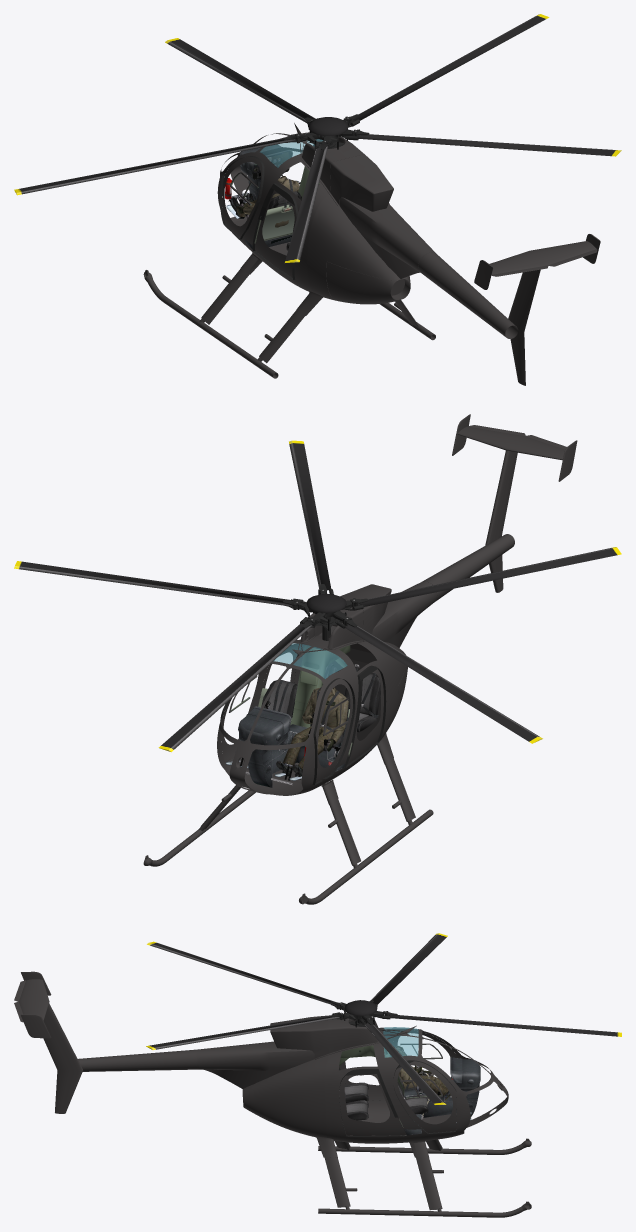
The model's file is md5_int.glb.
The picture shows the model from 3 angles, top to bottom: view 1: azimuth 30°, elevation 25°; view 2: azimuth 150°, elevation 25°; view 3: azimuth 270°, elevation 25°; orthographic projection. The views are drawn at different scales.
Visible parts, largest first — view 1: boom, body, rotor_blades, skids, ixt_console, doors, rotor_hub, glassF, ixt_pilot; view 2: rotor_blades, boom, body, ixt_console, skids, doors, ixt_pilot, ixt_seatsL, glassF, ixt_seatsR, rotor_hub; view 3: boom, body, rotor_blades, skids, doors, ixt_console, ixt_seatsR, glassF, ixt_pilot, rotor_hub, ixt_seatsL.
Boxes of the visible parts, bbox=[...] form: boom: bbox=[300, 136, 600, 385]; body: bbox=[217, 132, 410, 304]; rotor_blades: bbox=[14, 14, 621, 262]; skids: bbox=[143, 252, 435, 378]; ixt_console: bbox=[225, 144, 319, 248]; doors: bbox=[222, 140, 323, 277]; rotor_hub: bbox=[308, 117, 347, 149]; glassF: bbox=[260, 139, 323, 167]; ixt_pilot: bbox=[230, 176, 299, 227]; rotor_blades: bbox=[14, 440, 621, 751]; boom: bbox=[299, 414, 577, 649]; body: bbox=[217, 635, 407, 795]; ixt_console: bbox=[238, 645, 352, 787]; skids: bbox=[143, 733, 433, 904]; doors: bbox=[221, 646, 383, 782]; ixt_pilot: bbox=[276, 687, 348, 779]; ixt_seatsL: bbox=[304, 664, 380, 751]; glassF: bbox=[273, 643, 347, 678]; ixt_seatsR: bbox=[261, 663, 337, 721]; rotor_hub: bbox=[306, 593, 346, 640]; boom: bbox=[14, 971, 381, 1113]; body: bbox=[242, 1027, 508, 1143]; rotor_blades: bbox=[146, 933, 621, 1104]; skids: bbox=[316, 1136, 531, 1217]; doors: bbox=[339, 1030, 456, 1135]; ixt_console: bbox=[339, 1045, 480, 1135]; ixt_seatsR: bbox=[339, 1082, 428, 1120]; glassF: bbox=[383, 1027, 418, 1057]; ixt_pilot: bbox=[360, 1046, 448, 1095]; rotor_hub: bbox=[344, 1000, 377, 1027]; ixt_seatsL: bbox=[339, 1053, 425, 1102].
Bounding box in the file's own units: 7.65 × 3.42 × 9.3.
Materials: 14 (8 with a texture image).
